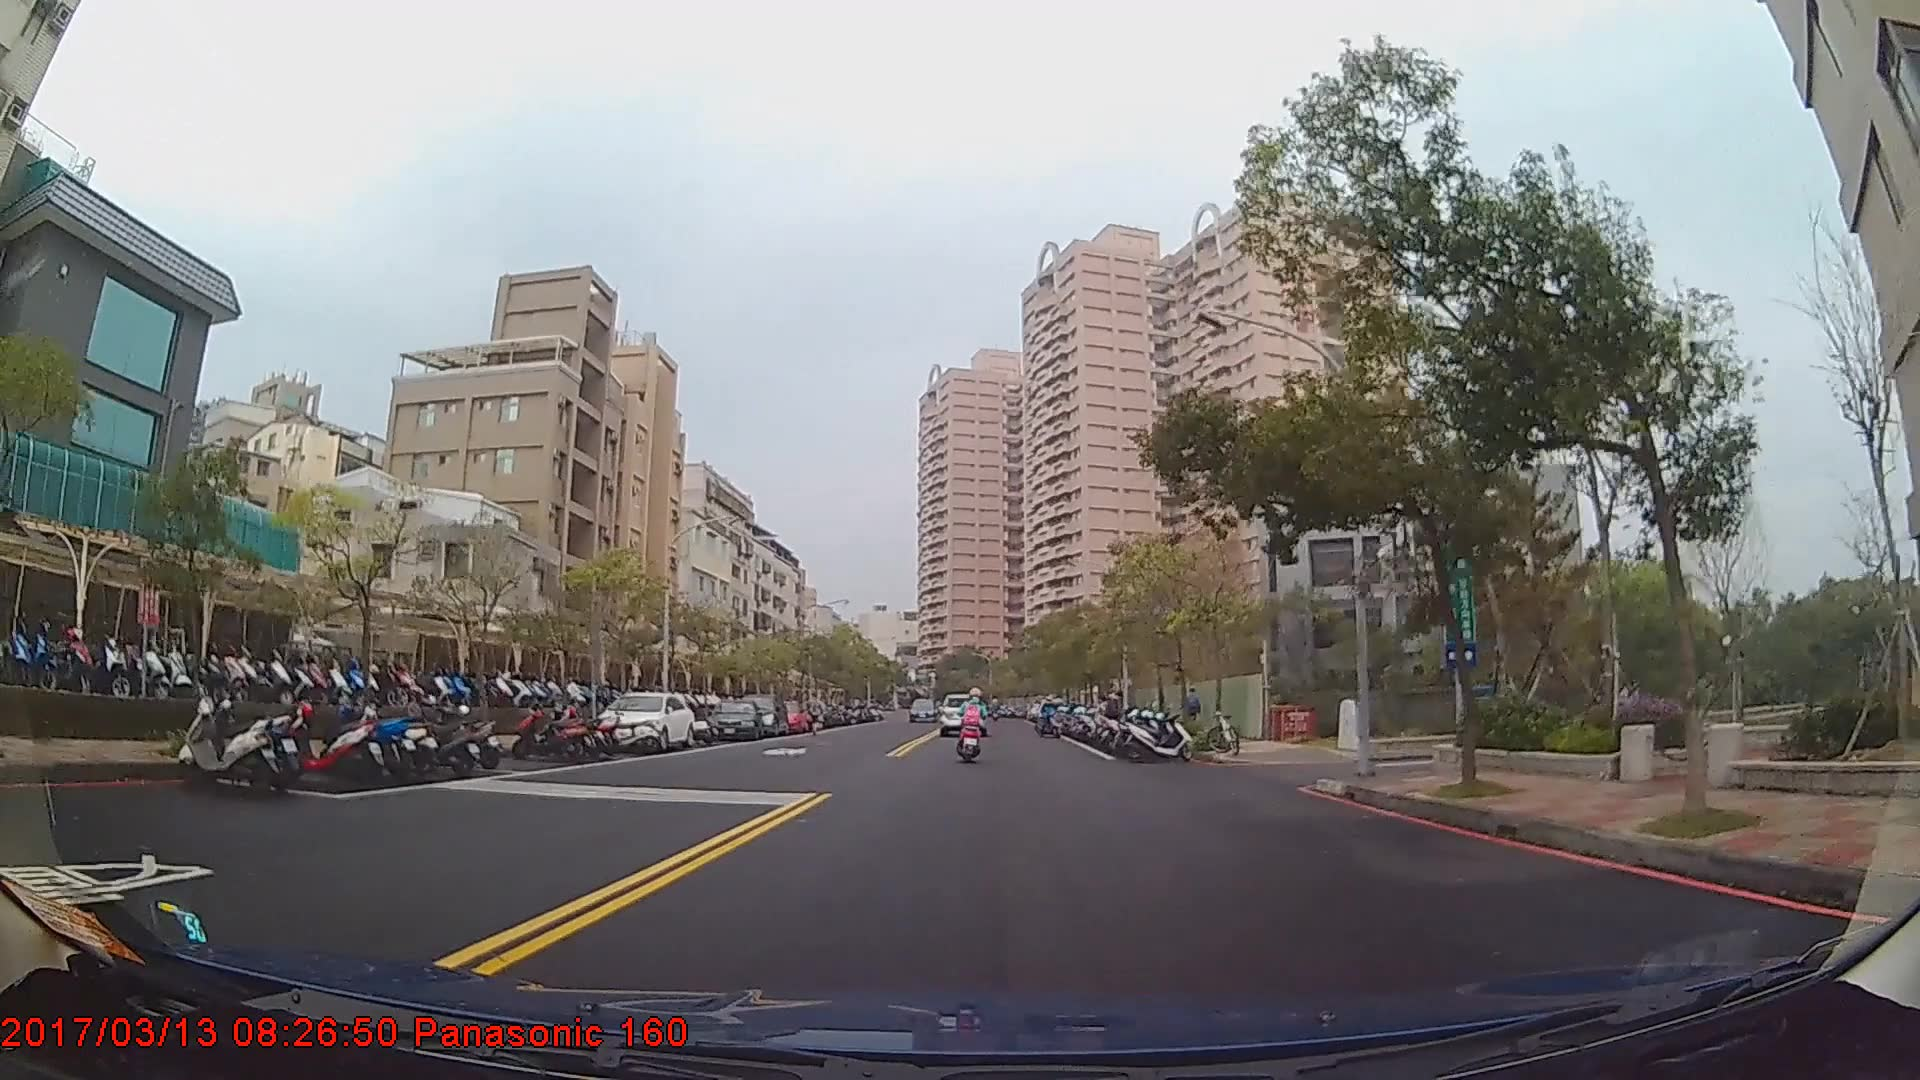pedestrian: (1182, 688, 1203, 741)
rider: (959, 687, 989, 759)
vehicle: (591, 687, 694, 748), (734, 690, 788, 736), (706, 697, 764, 739), (940, 691, 988, 736), (908, 695, 936, 720)
